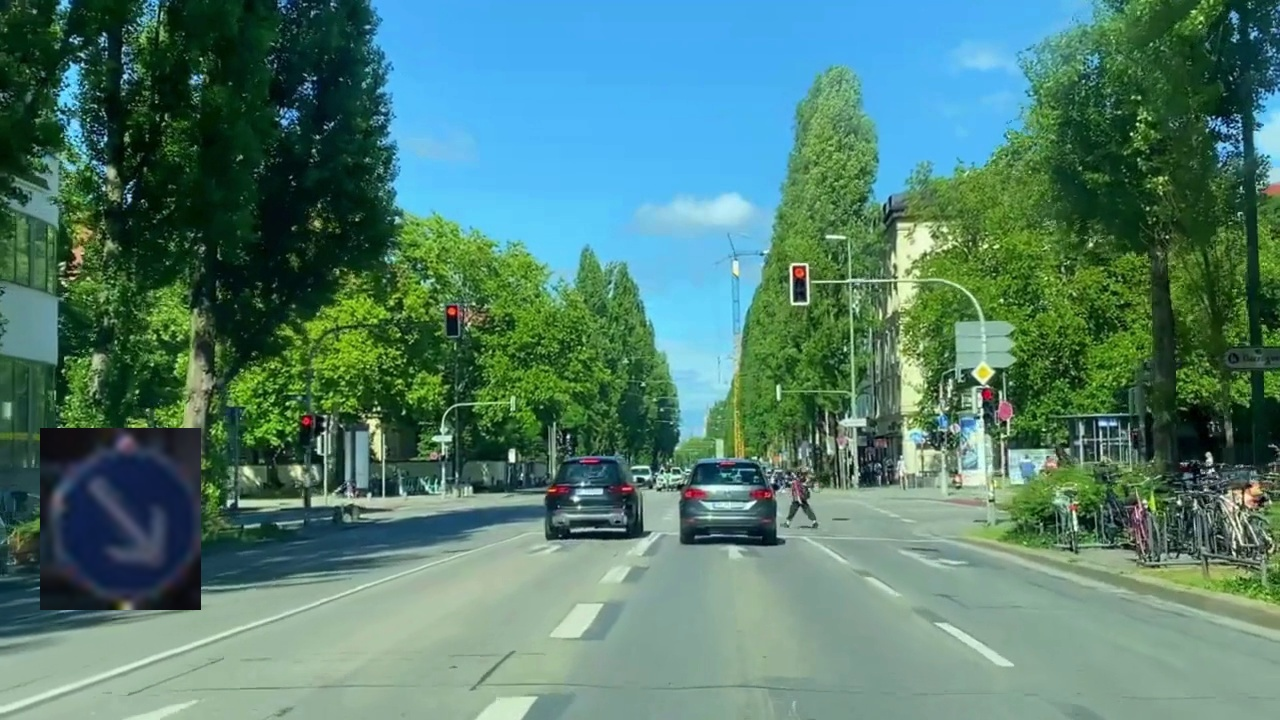Keep right: (40, 428, 201, 610)
